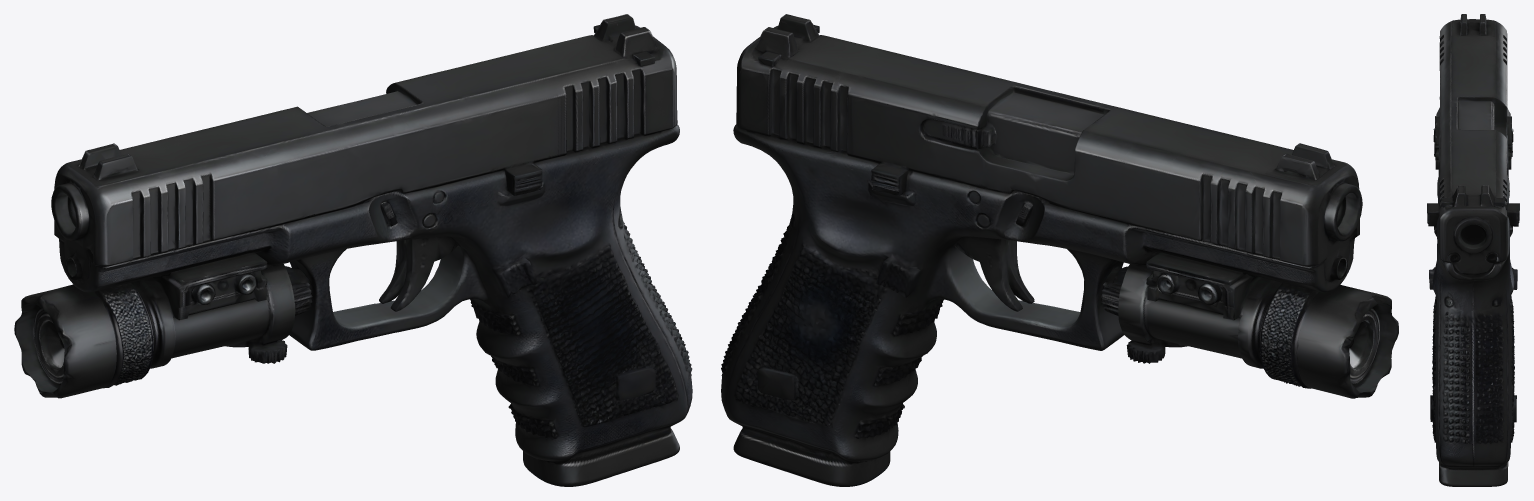
File: pistol.glb
3 views of the same model, side by side, from view 1: azimuth 30°, elevation 25°; view 2: azimuth 150°, elevation 25°; view 3: azimuth 270°, elevation 25° (orthographic). The views are drawn at different scales.
Parts seen in each view (by area): view 1: tripo_node_9d33c8f1-1369-4879-b8b5-8f922575fa66; view 2: tripo_node_9d33c8f1-1369-4879-b8b5-8f922575fa66; view 3: tripo_node_9d33c8f1-1369-4879-b8b5-8f922575fa66.
Boxes of the visible parts, box(x1,y1,x2,y2) form: tripo_node_9d33c8f1-1369-4879-b8b5-8f922575fa66: box(14, 14, 692, 486); tripo_node_9d33c8f1-1369-4879-b8b5-8f922575fa66: box(721, 14, 1398, 486); tripo_node_9d33c8f1-1369-4879-b8b5-8f922575fa66: box(1427, 14, 1519, 486).
Size of the model in its own units: 1 by 0.6376 by 0.1831.
1 material, 1 textured.
